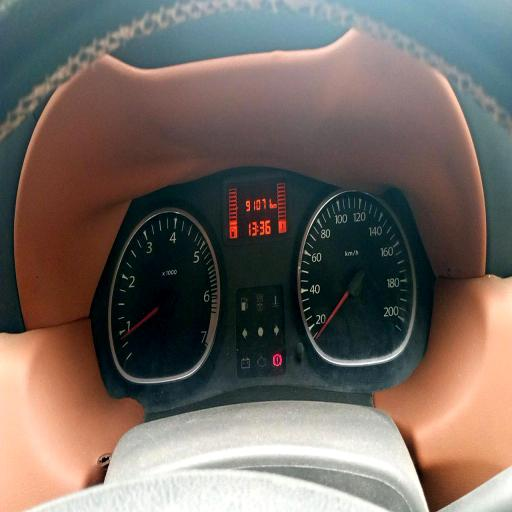brake_system_fault: (273, 352, 281, 366)
tachometer: (108, 207, 220, 383)
